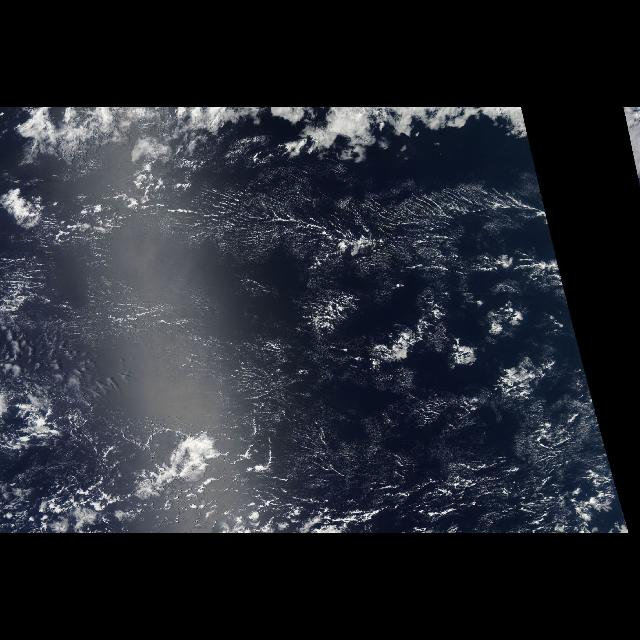Fish: (198, 176, 552, 292)
Gravel: (15, 398, 304, 530)
